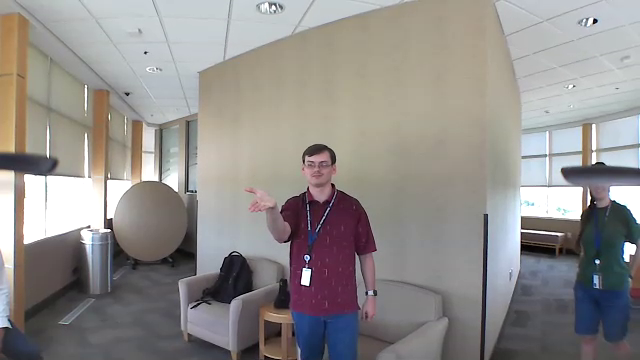land: (235, 181, 289, 216)
